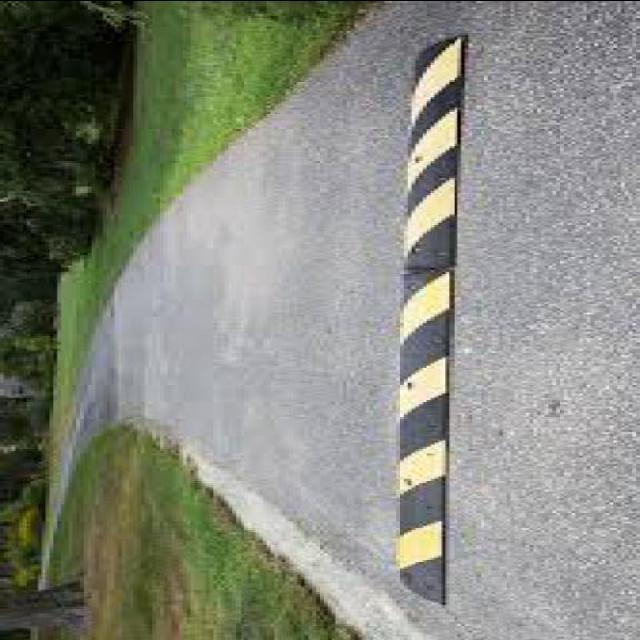speedbreaker: (363, 24, 485, 632)
